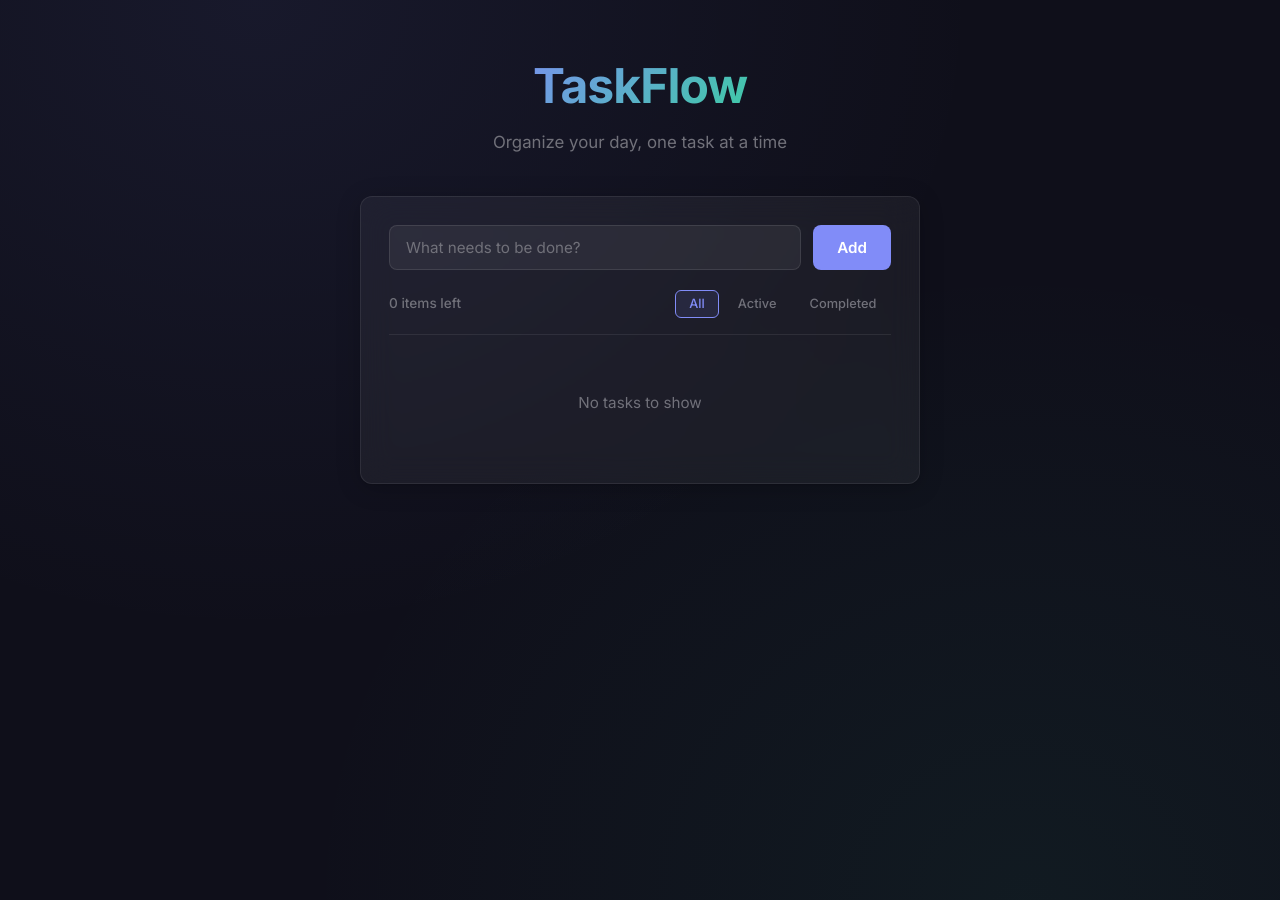
Test: App › toggles a task between completed and active
Type "Toggle me" into the field named "Task title" at x=595, y=247, box [389,225,801,270]
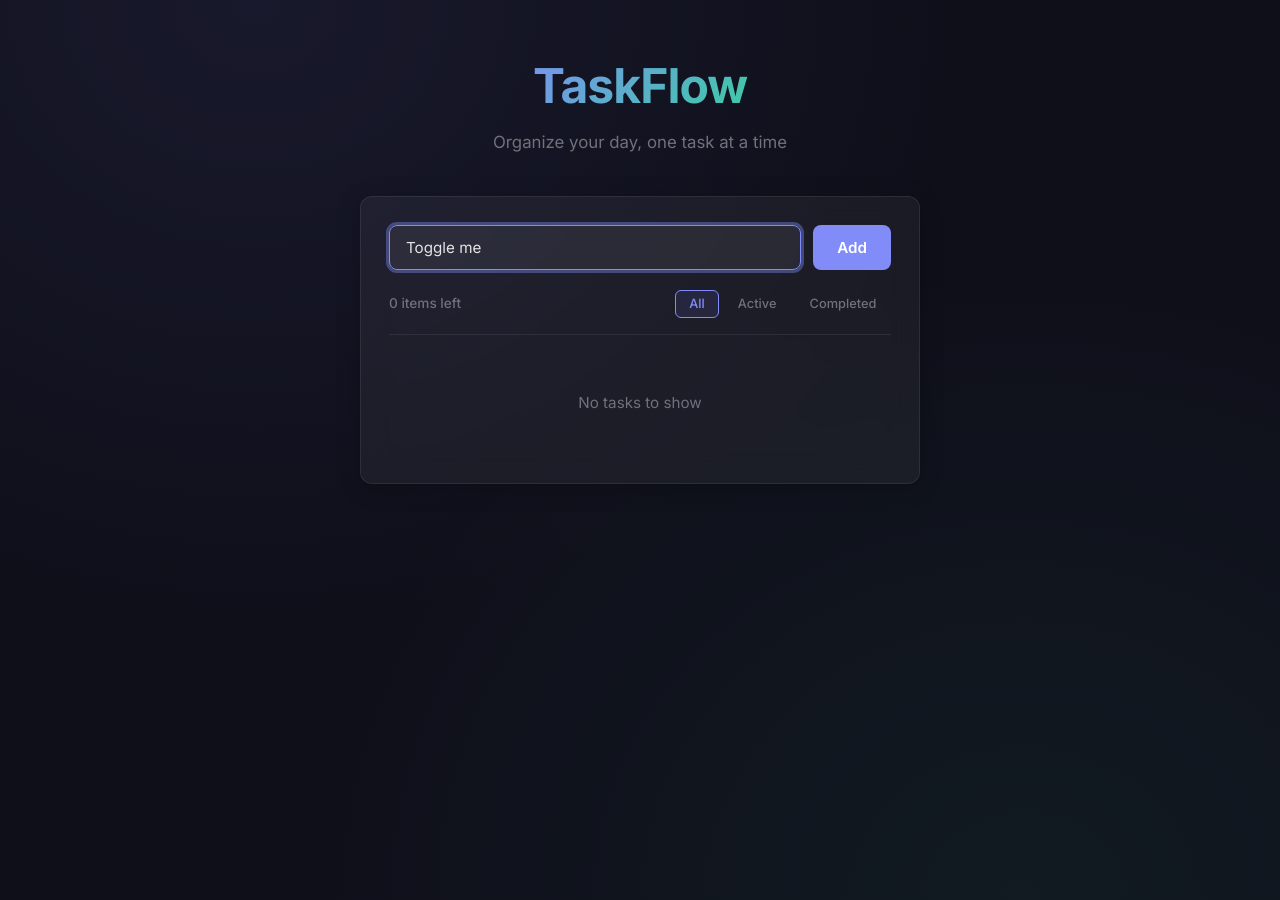
Click the button "Add" at x=852, y=247, box [813,225,891,270]
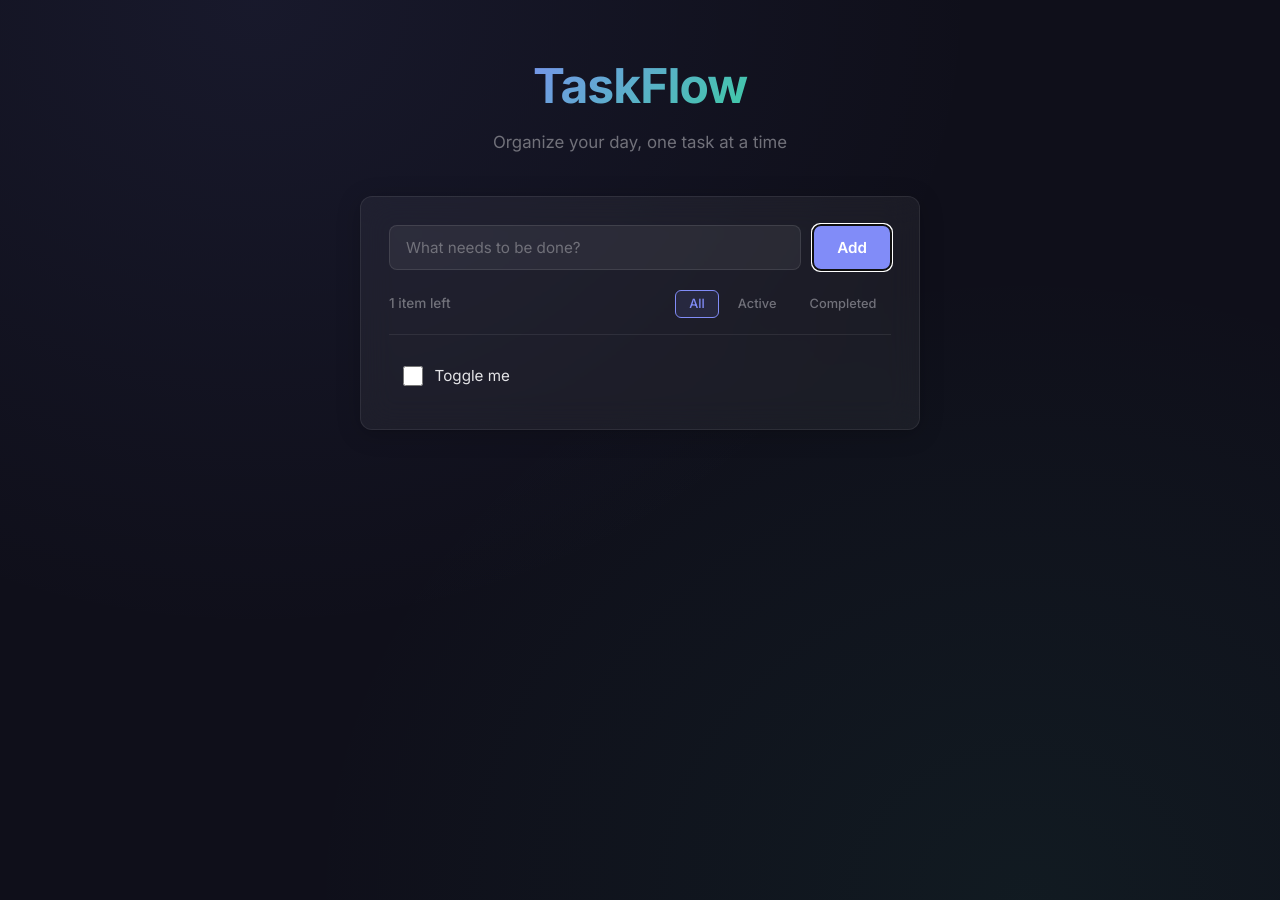
Click the checkbox at x=413, y=376, box [403,366,423,386]
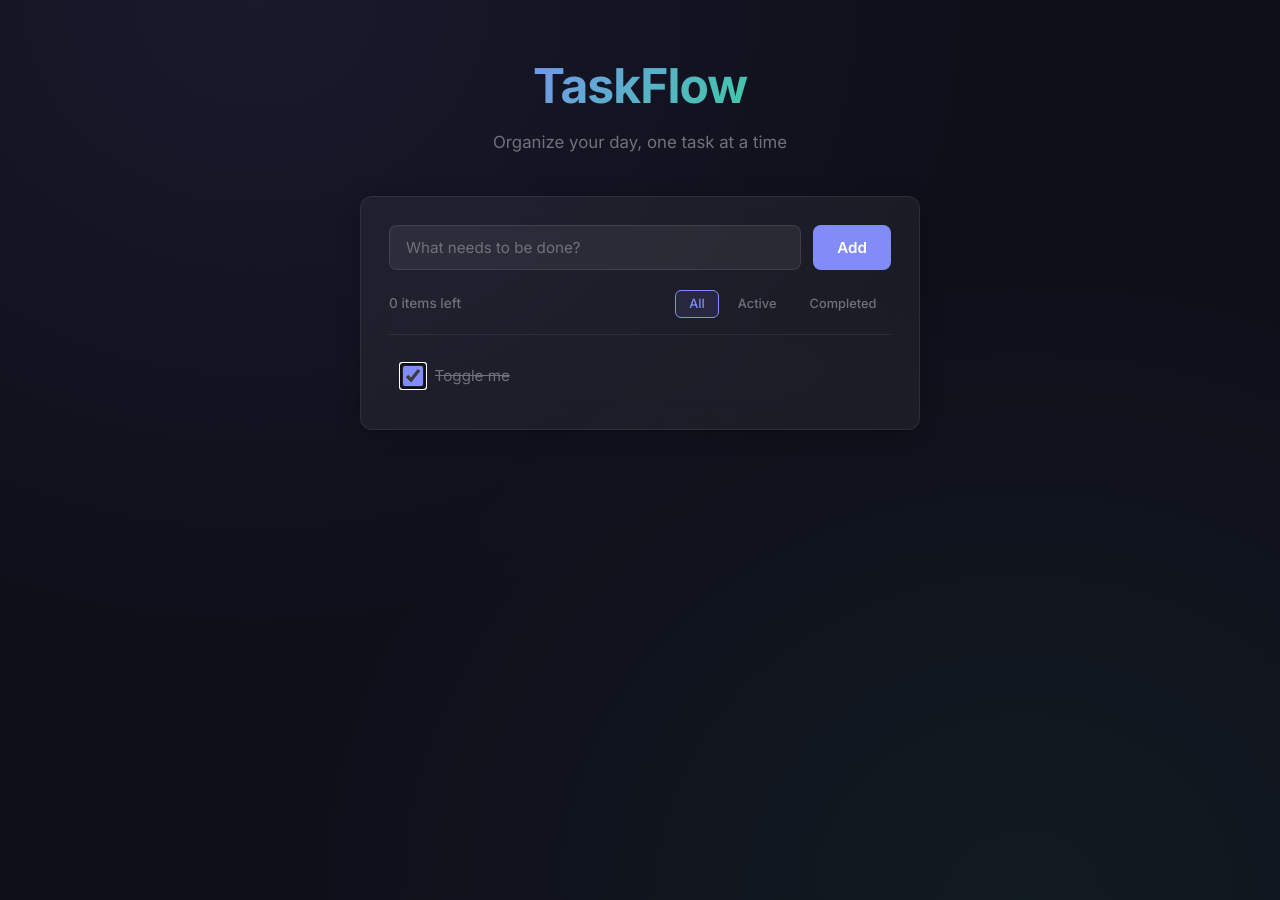
Now the checkbox is checked, box [403,366,423,386]
Now the text "0 items left" is shown, box [389,293,461,315]
